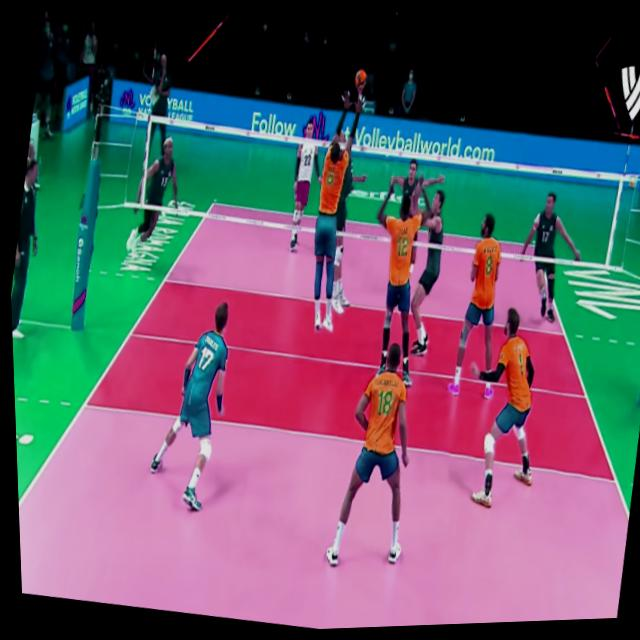player: (314, 336, 434, 578), (136, 293, 247, 525), (442, 302, 559, 517), (290, 86, 372, 346), (346, 181, 443, 394), (443, 213, 521, 408), (391, 181, 461, 364), (503, 192, 590, 330), (121, 132, 190, 256), (278, 120, 328, 257), (382, 160, 444, 221)
